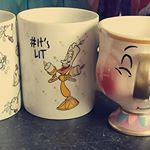cups: (16, 6, 101, 121), (1, 6, 22, 122)
